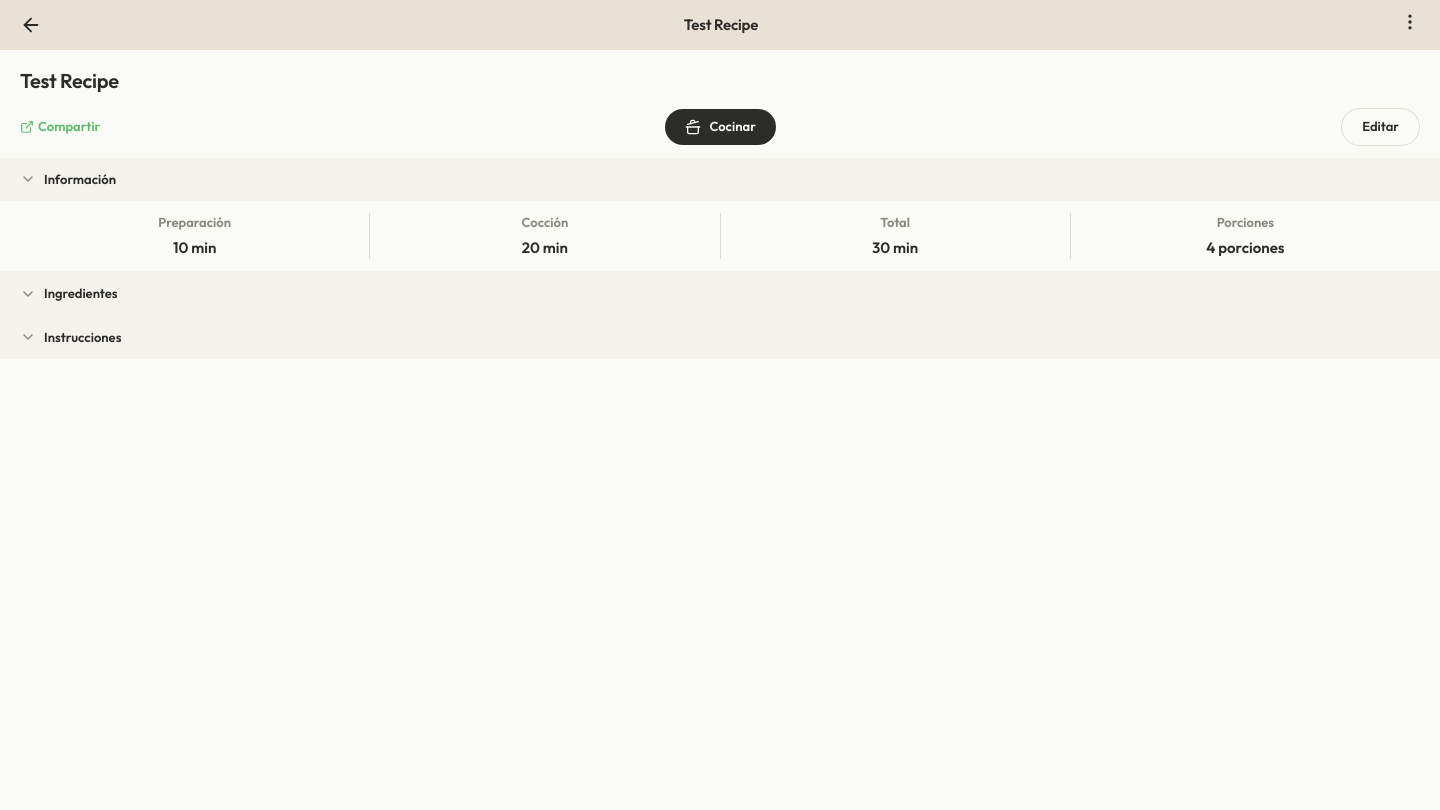
Test case: ShareLinkFlow › opens BottomSheet with share URL after token generated
What coordinates should you click on to do the following:
click the button "Compartir"
I would click on:
 (60, 127)
Its box is [20,117,100,136].
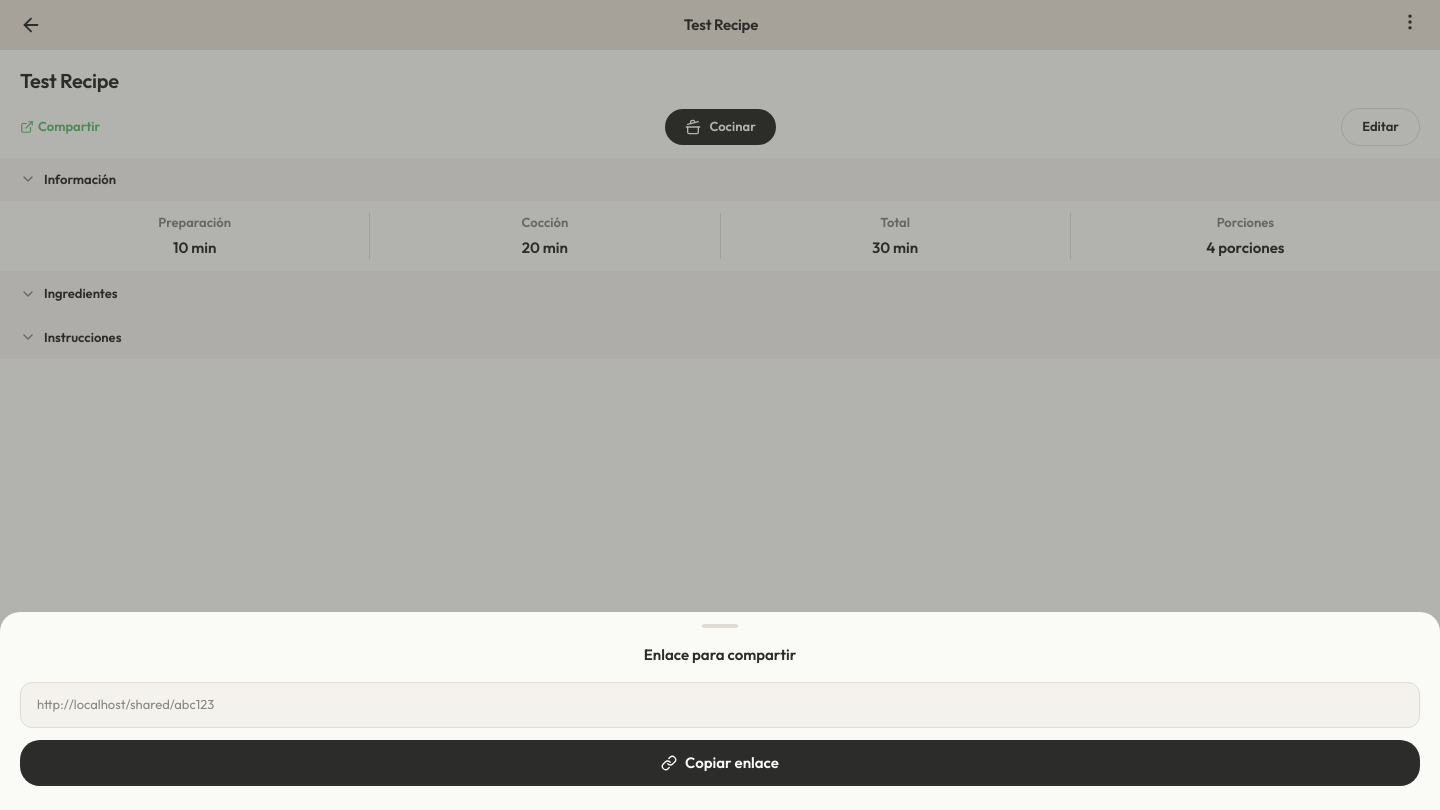
Now the text "Enlace para compartir" is shown, box [644,644,796,664]
Now the text "http://localhost/shared/abc123" is shown, box [20,682,1420,728]
